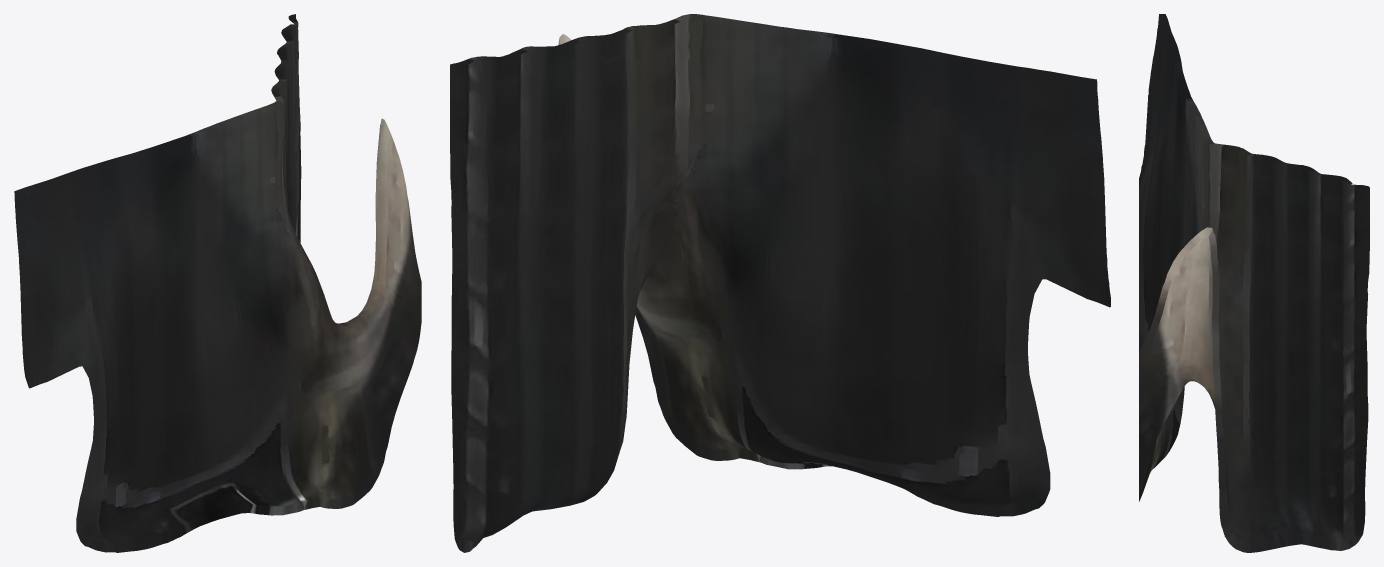
File: z20-167762-405235-h0-yup-uvflip-v3-world.glb
3 views of the same model, side by side, from view 1: azimuth 30°, elevation 25°; view 2: azimuth 150°, elevation 25°; view 3: azimuth 270°, elevation 25° (orthographic). The views are drawn at different scales.
Size of the model in its own units: 30.16 by 29.04 by 16.72.
Materials: 1 (1 with a texture image).
